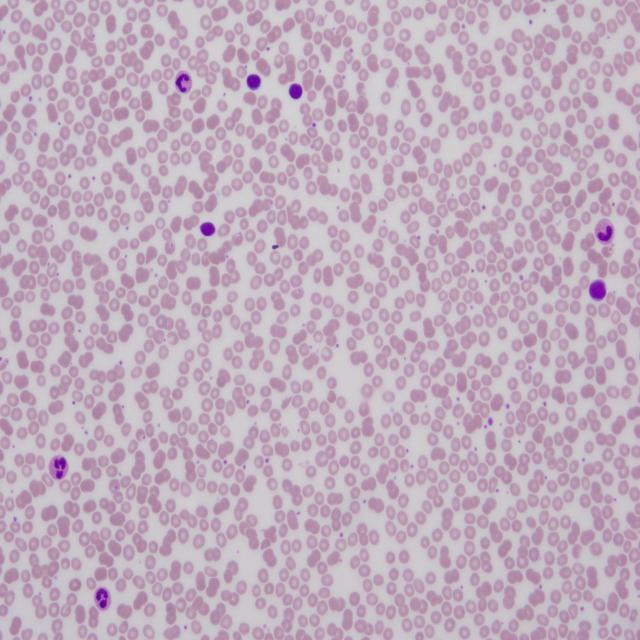cell: (595, 218, 614, 244), (49, 456, 69, 480), (175, 70, 192, 94), (95, 588, 110, 610)
